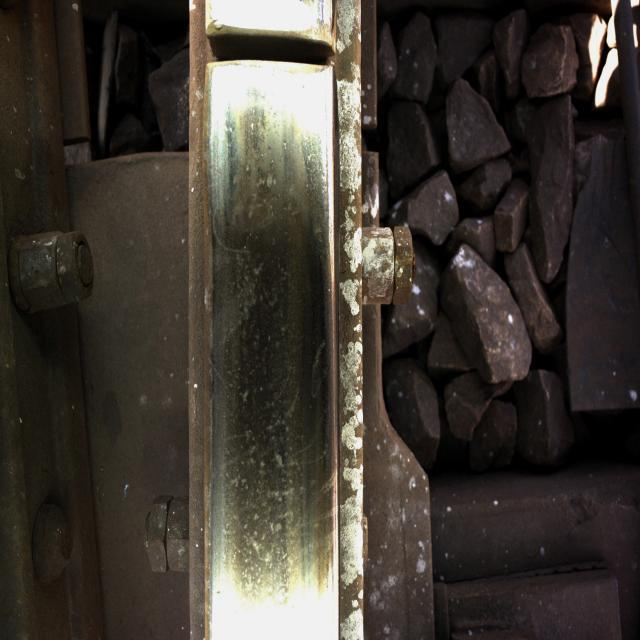spalling: (175, 0, 355, 120)
